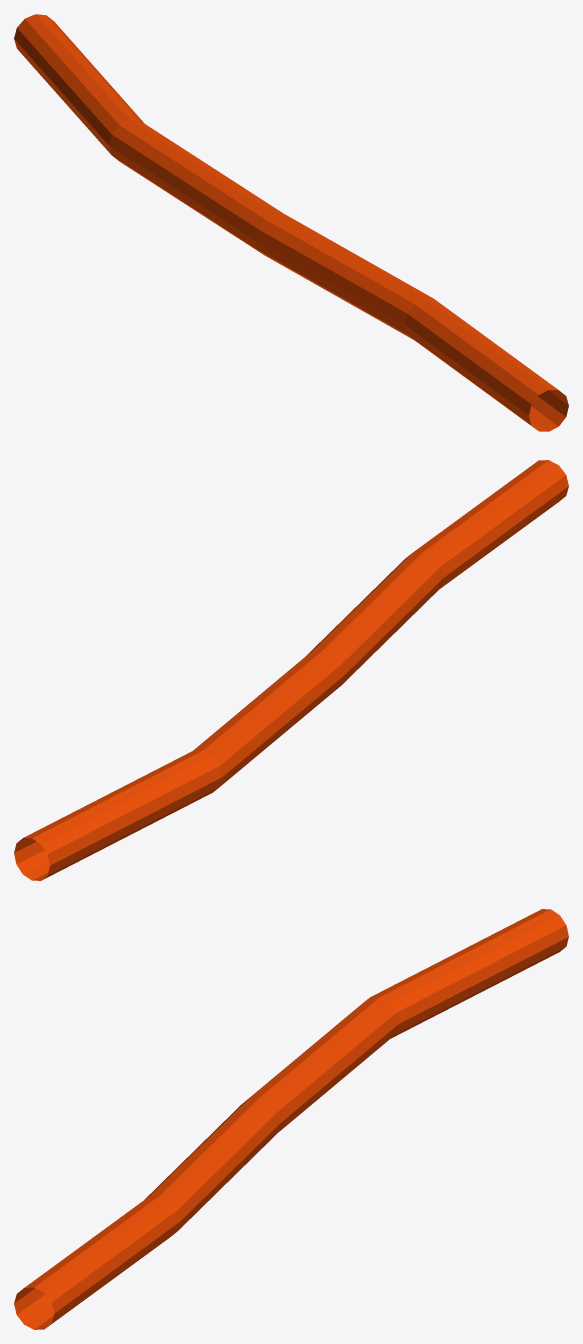
Rendered from Cable2.fbx.
3 renders of one model, top to bottom at view 1: azimuth 30°, elevation 25°; view 2: azimuth 150°, elevation 25°; view 3: azimuth 330°, elevation 25°, orthographic.
Parts seen in each view (by area): view 1: Vert.001; view 2: Vert.001; view 3: Vert.001.
Part boxes in pixels (x1=…): Vert.001: x1=14, y1=14, x2=568, y2=431; Vert.001: x1=14, y1=460, x2=568, y2=880; Vert.001: x1=14, y1=909, x2=568, y2=1329.
Bounding box in the file's own units: 3.9 × 2 × 44.47.
